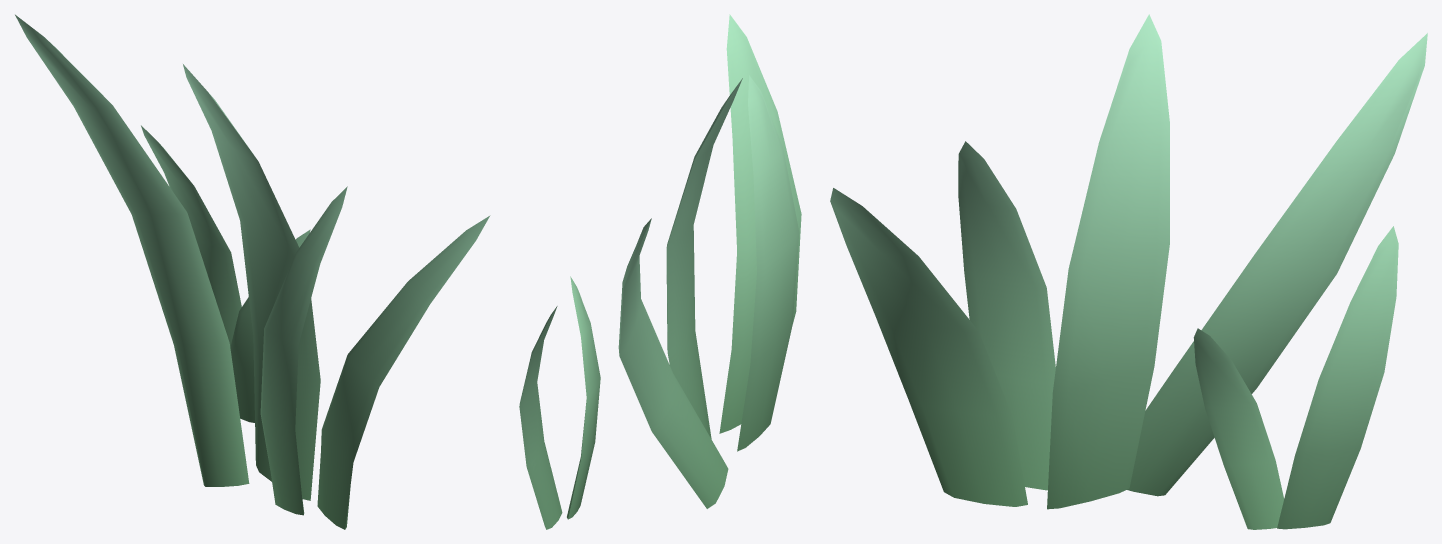
Rendered from Grass.fbx.
3 renders of one model, left to right at view 1: azimuth 30°, elevation 25°; view 2: azimuth 150°, elevation 25°; view 3: azimuth 270°, elevation 25°, orthographic. The views are drawn at different scales.
Parts seen in each view (by area): view 1: Plane; view 2: Plane; view 3: Plane.
Part boxes in pixels (x1,y1,x2,y2): Plane: (15,14,490,529); Plane: (519,14,801,529); Plane: (830,14,1427,529).
Bounding box in the file's own units: 24.36 × 50.82 × 59.03.
